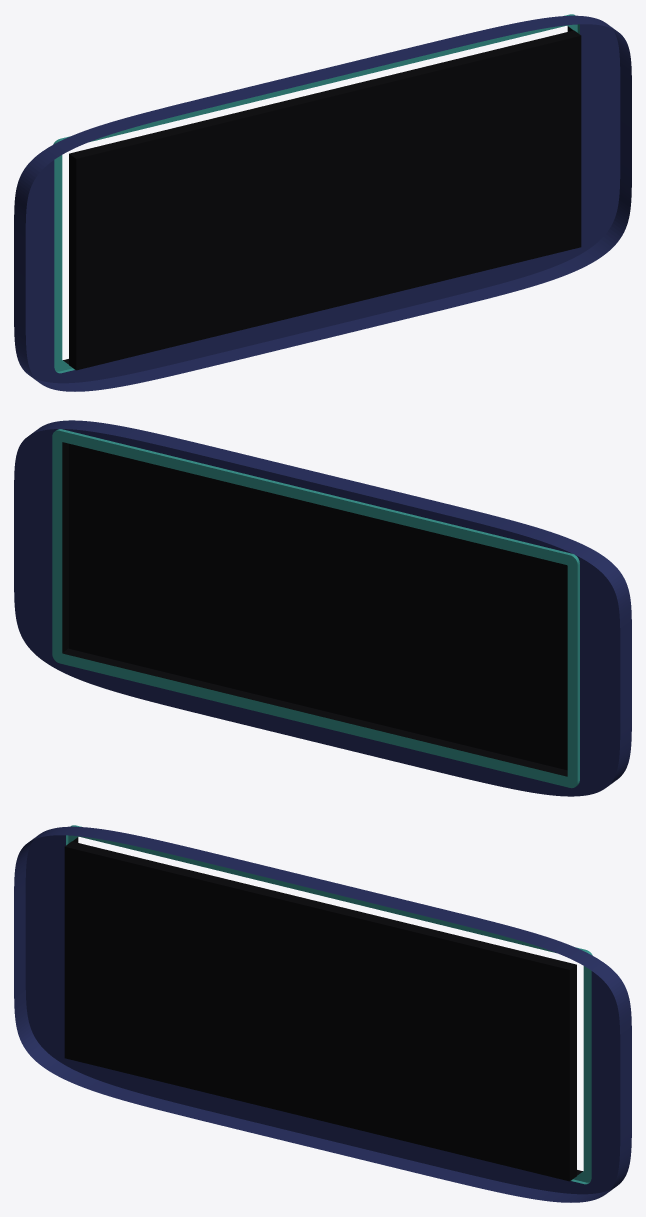
Rendered from MonitorFrame.obj.
The picture shows the model from 3 angles, top to bottom: view 1: azimuth 30°, elevation 25°; view 2: azimuth 150°, elevation 25°; view 3: azimuth 330°, elevation 25°; orthographic projection.
Parts seen in each view (by area): view 1: MonitorFrame; view 2: MonitorFrame; view 3: MonitorFrame.
Boxes of the visible parts, bbox=[...] form: MonitorFrame: bbox=[14, 14, 631, 391]; MonitorFrame: bbox=[14, 420, 631, 796]; MonitorFrame: bbox=[14, 825, 631, 1202].
Bounding box in the file's own units: 0.48 × 0.196 × 0.019.
